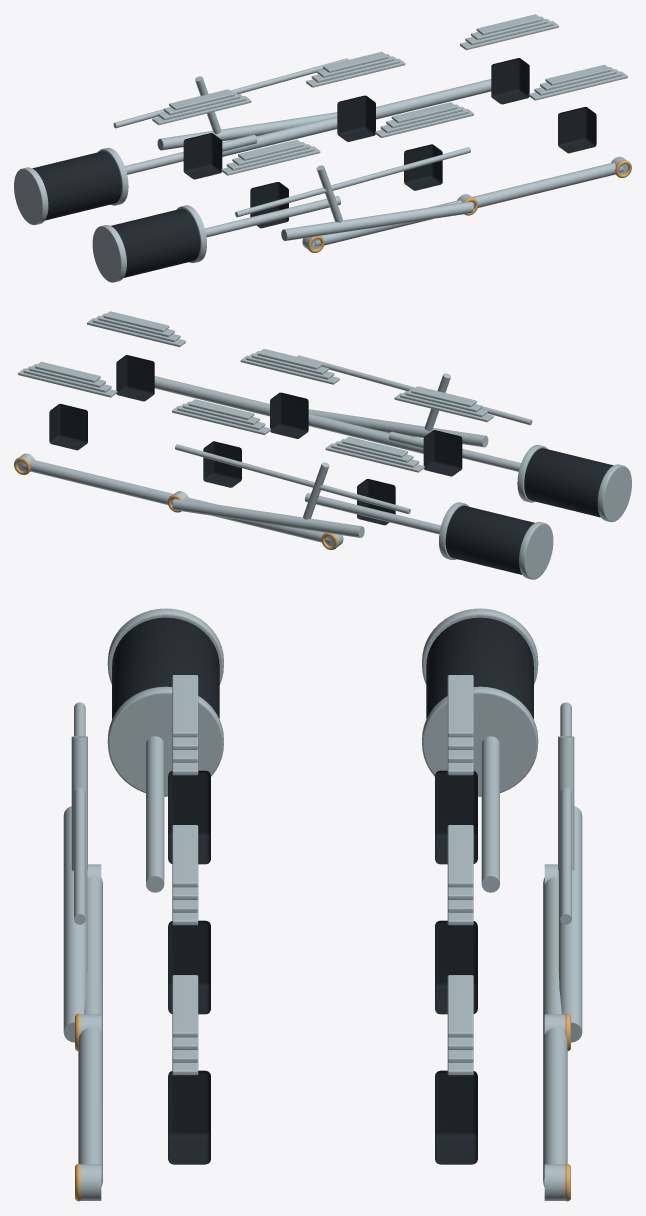
Rendered from valve-gear.glb.
3 views of the same model, one above another, from view 1: azimuth 30°, elevation 25°; view 2: azimuth 150°, elevation 25°; view 3: azimuth 270°, elevation 25° (orthographic). The views are drawn at different scales.
Visible parts, largest first — view 1: Steam cylinder, Steam cylinder.001, Coupling rod.001, Coupling rod, Main connecting rod, Axle bearing.003, Main connecting rod.001, Axle bearing.004, Axle bearing.002, Axle bearing.005, Cylinder end cover, Cylinder end cover.002 (+27 smaller); view 2: Steam cylinder.001, Steam cylinder, Coupling rod, Coupling rod.001, Main connecting rod.001, Axle bearing, Main connecting rod, Axle bearing.001, Axle bearing.005, Axle bearing.002, Cylinder end cover, Cylinder end cover.002 (+27 smaller); view 3: Steam cylinder, Steam cylinder.001, Cylinder end cover.001, Cylinder end cover.003, Coupling rod, Coupling rod.001, Axle bearing.002, Axle bearing.005, Main connecting rod, Main connecting rod.001, Axle bearing, Axle bearing.003 (+18 smaller).
Part boxes in pixels (bbox=[...]): Steam cylinder: bbox=[111, 208, 200, 277]; Steam cylinder.001: bbox=[32, 151, 121, 220]; Coupling rod.001: bbox=[222, 79, 491, 156]; Coupling rod: bbox=[315, 162, 623, 246]; Main connecting rod: bbox=[281, 201, 473, 240]; Axle bearing.003: bbox=[183, 133, 222, 179]; Main connecting rod.001: bbox=[157, 112, 337, 150]; Axle bearing.004: bbox=[337, 95, 375, 141]; Axle bearing.002: bbox=[558, 107, 596, 153]; Axle bearing.005: bbox=[491, 58, 529, 104]; Cylinder end cover: bbox=[92, 225, 126, 282]; Cylinder end cover.002: bbox=[14, 167, 48, 225]; Steam cylinder.001: bbox=[445, 505, 534, 574]; Steam cylinder: bbox=[524, 448, 613, 517]; Coupling rod: bbox=[154, 376, 423, 453]; Coupling rod.001: bbox=[22, 459, 330, 543]; Main connecting rod.001: bbox=[172, 498, 364, 537]; Axle bearing: bbox=[423, 430, 462, 476]; Main connecting rod: bbox=[308, 409, 488, 447]; Axle bearing.001: bbox=[270, 392, 308, 438]; Axle bearing.005: bbox=[49, 404, 87, 450]; Axle bearing.002: bbox=[116, 355, 154, 401]; Cylinder end cover: bbox=[597, 464, 631, 522]; Cylinder end cover.002: bbox=[519, 522, 553, 579]; Steam cylinder: bbox=[112, 617, 219, 718]; Steam cylinder.001: bbox=[426, 617, 533, 718]; Cylinder end cover.001: bbox=[107, 686, 223, 796]; Cylinder end cover.003: bbox=[422, 686, 538, 796]; Coupling rod: bbox=[78, 877, 102, 1186]; Coupling rod.001: bbox=[543, 877, 567, 1186]; Axle bearing.002: bbox=[168, 1070, 210, 1164]; Axle bearing.005: bbox=[435, 1070, 477, 1164]; Main connecting rod: bbox=[63, 806, 87, 1042]; Main connecting rod.001: bbox=[558, 806, 582, 1042]; Axle bearing: bbox=[168, 770, 210, 864]; Axle bearing.003: bbox=[435, 770, 477, 864].
Bounding box in the file's own units: 5.61 × 0.9115 × 2.41.
